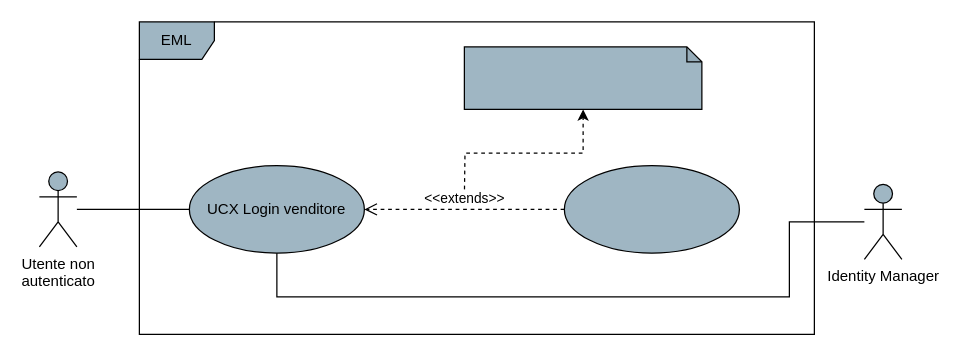
This 960x356 diagram has some shape labels left out. Each missing label, with the centre of its shape:
Condizione: Credenziali non riconosciute: the point at 582,77
UC4 Visualizzazione errore dati login errati: the point at 651,208
